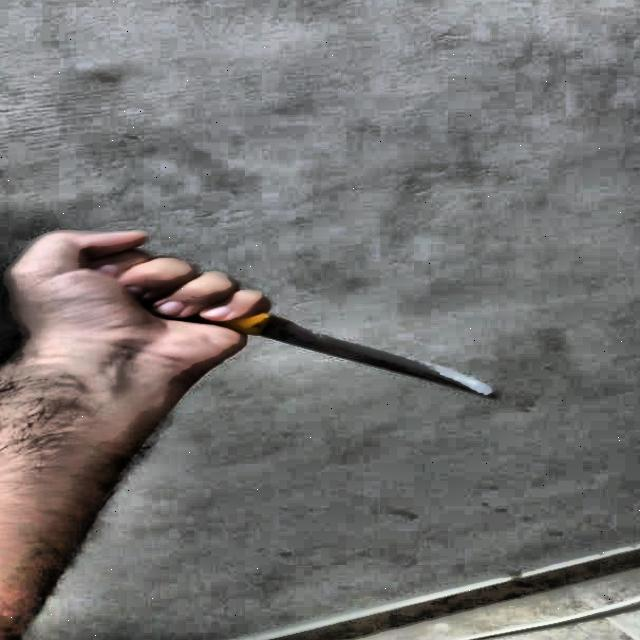knife: (231, 310, 496, 401)
